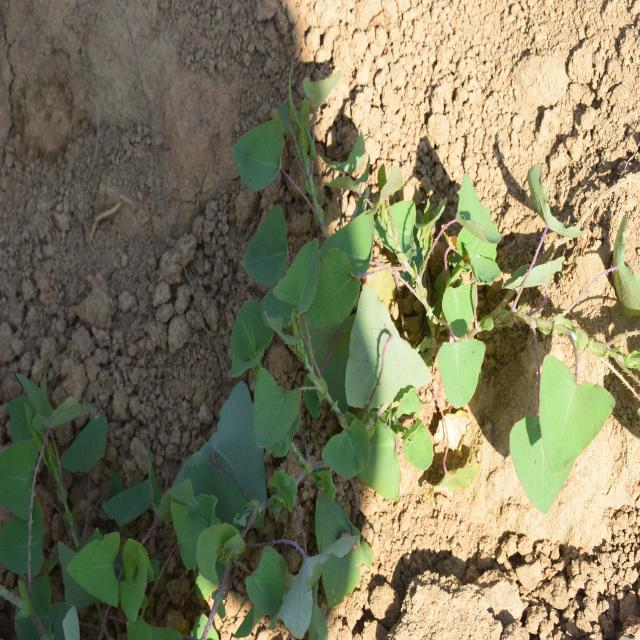Asiatic_Smartweed: (222, 185, 423, 511), (375, 202, 510, 466), (223, 56, 374, 232), (68, 468, 210, 631), (218, 488, 364, 640), (506, 322, 614, 517)
